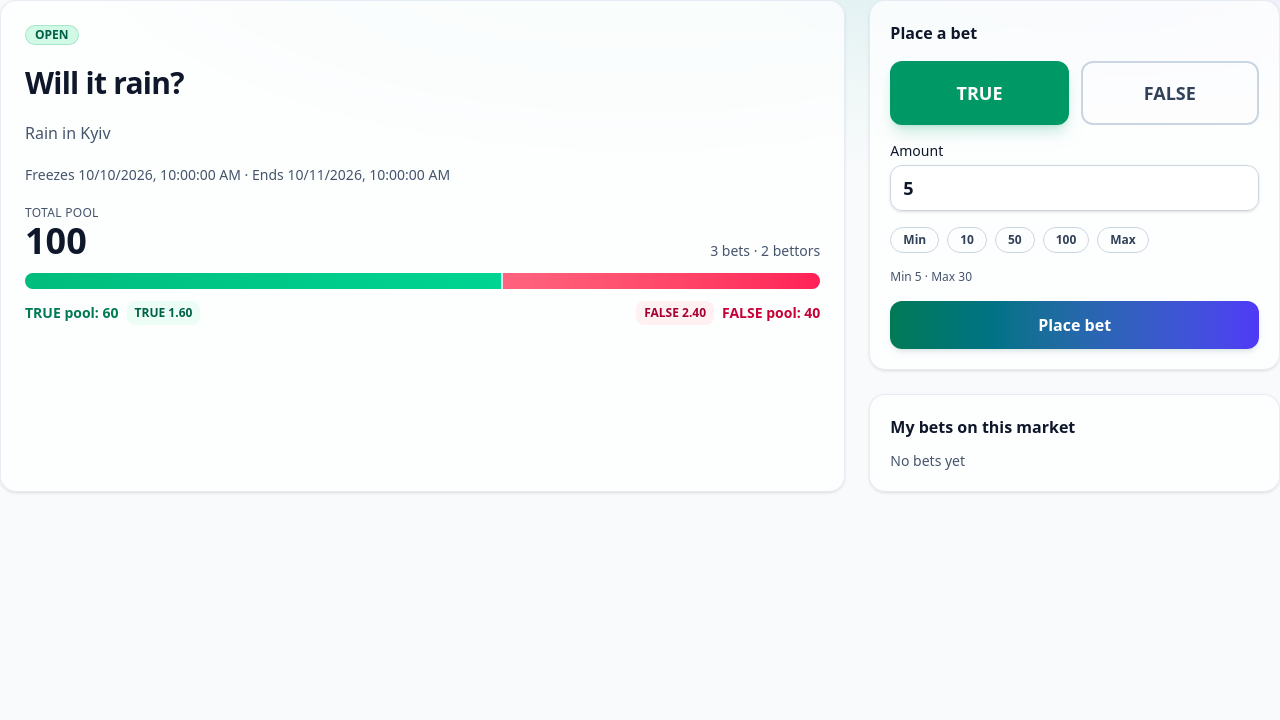
Test: quick amount chips set the amount within min and max
What coordinates should you click on to do the following:
click the button "10"
I would click on:
 (967, 240)
Its box is [947, 227, 987, 253].
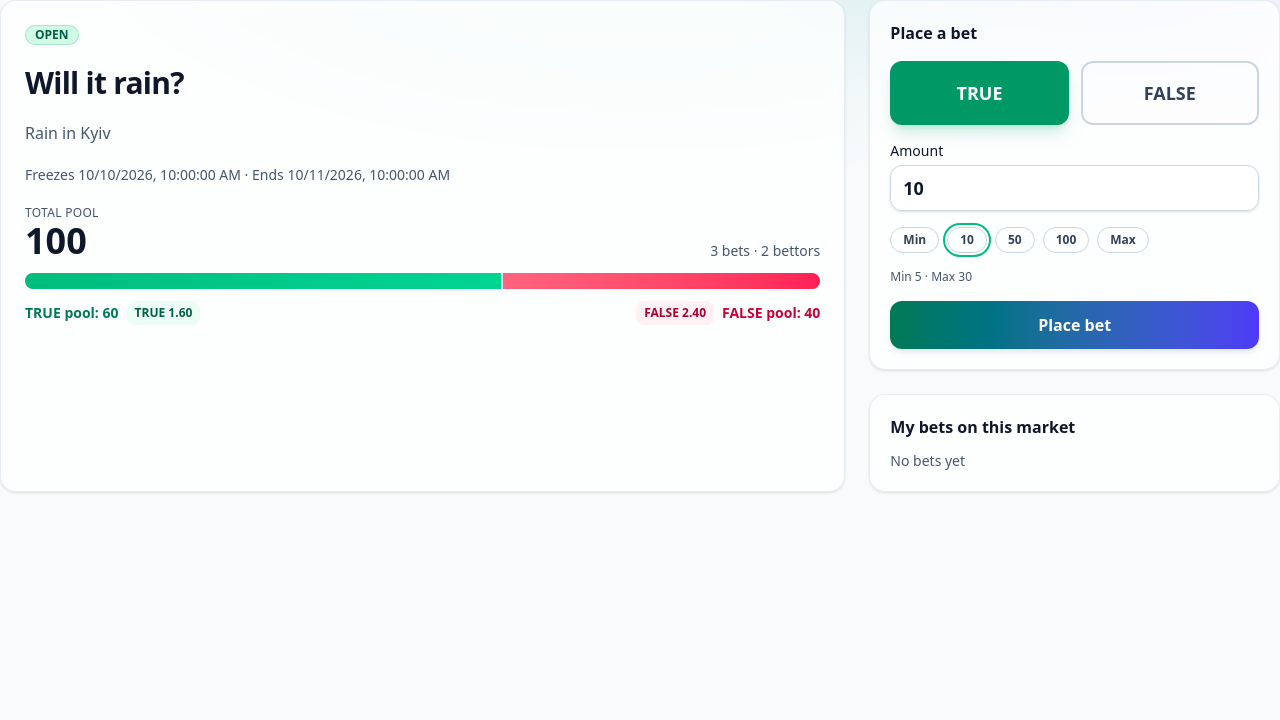
Expected: the number field labelled "Amount" holds "10", [890, 165, 1259, 211]
What coordinates should you click on to do the following:
click the button "50"
I would click on:
 (1015, 240)
Its box is [995, 227, 1035, 253].
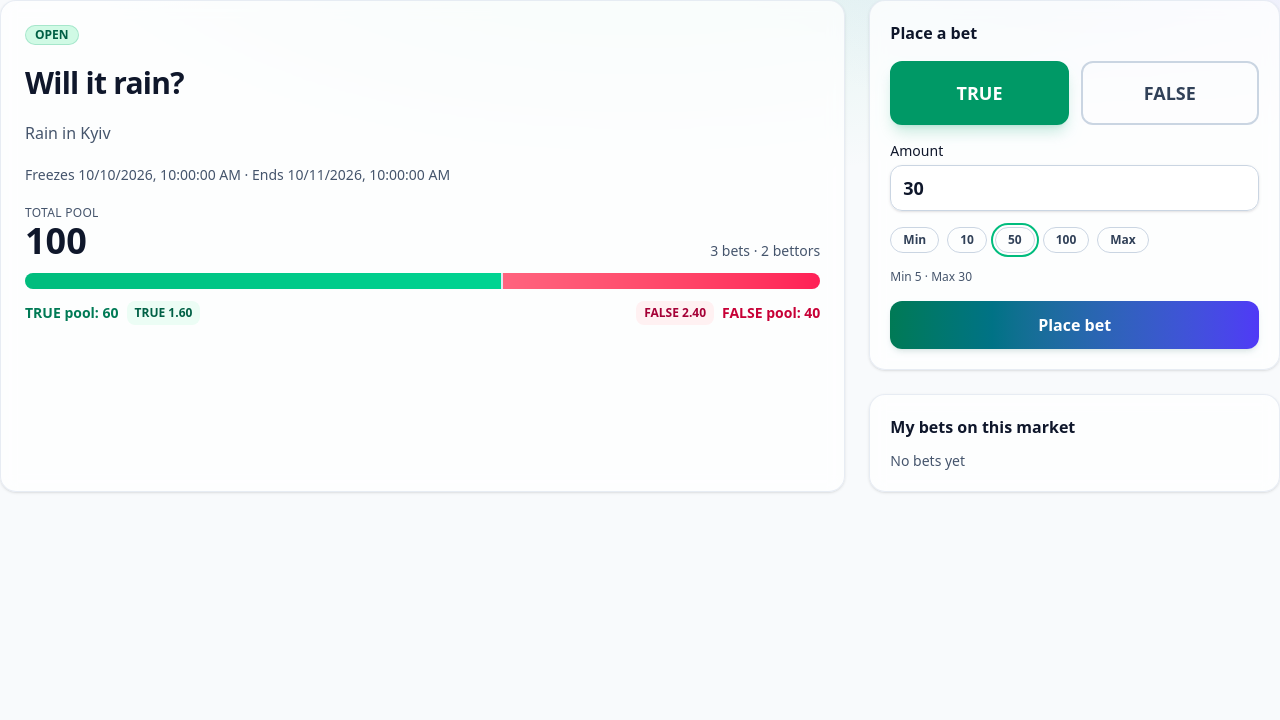
Expected: the number field labelled "Amount" holds "30", [890, 165, 1259, 211]
What coordinates should you click on to do the following:
click the button "Max"
I would click on:
 (1123, 240)
Its box is [1097, 227, 1149, 253].
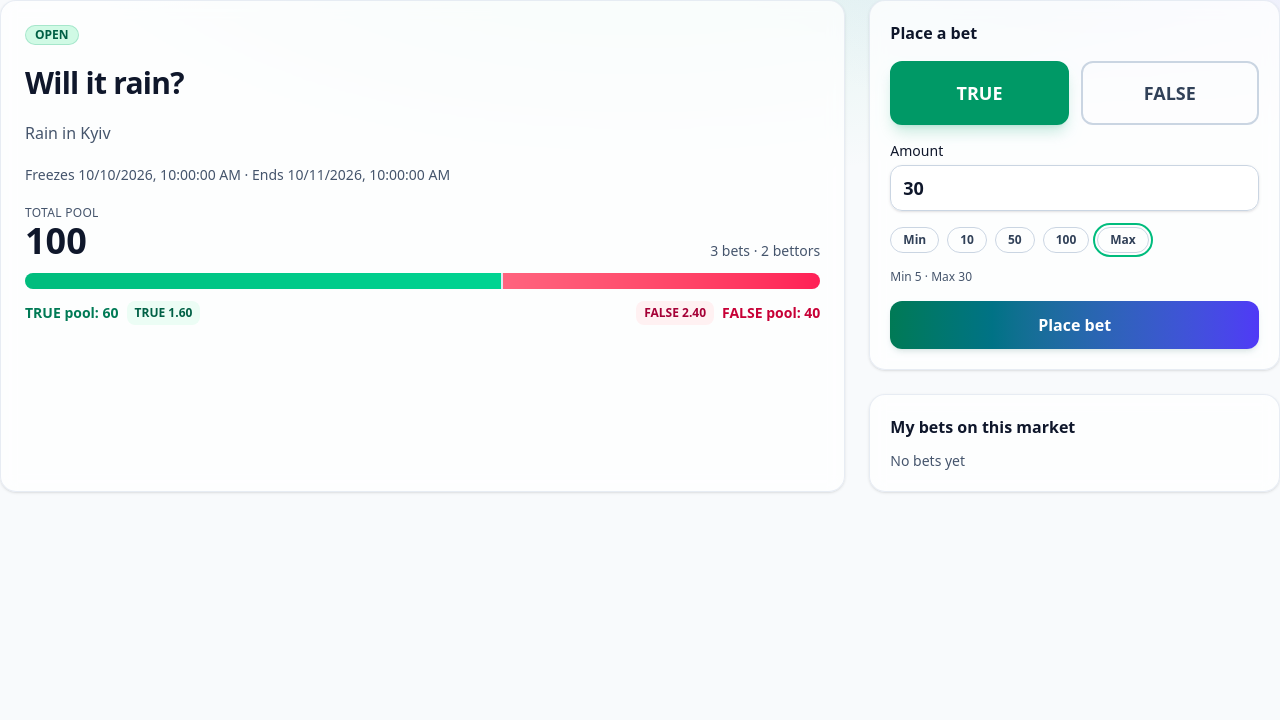
Expected: the number field labelled "Amount" holds "30", [890, 165, 1259, 211]
What coordinates should you click on to do the following:
click the button "Min"
I would click on:
 (915, 240)
Its box is [890, 227, 939, 253].
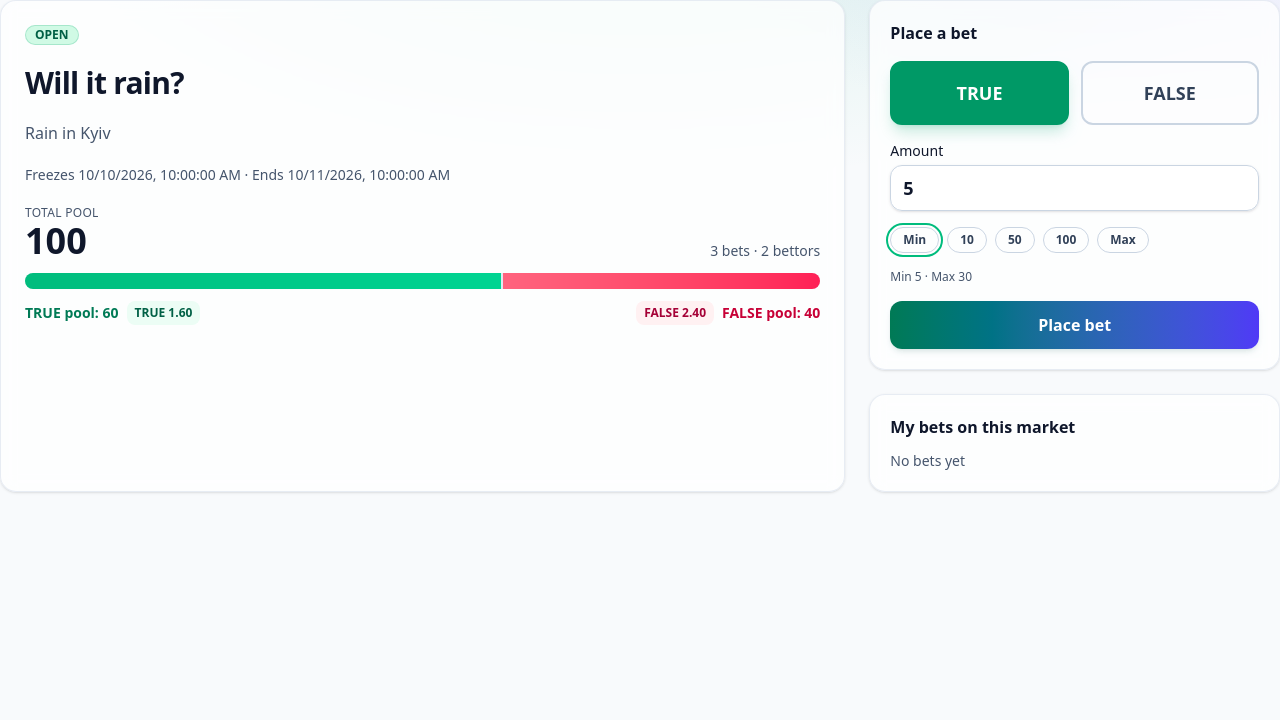
Expected: the number field labelled "Amount" holds "5", [890, 165, 1259, 211]
